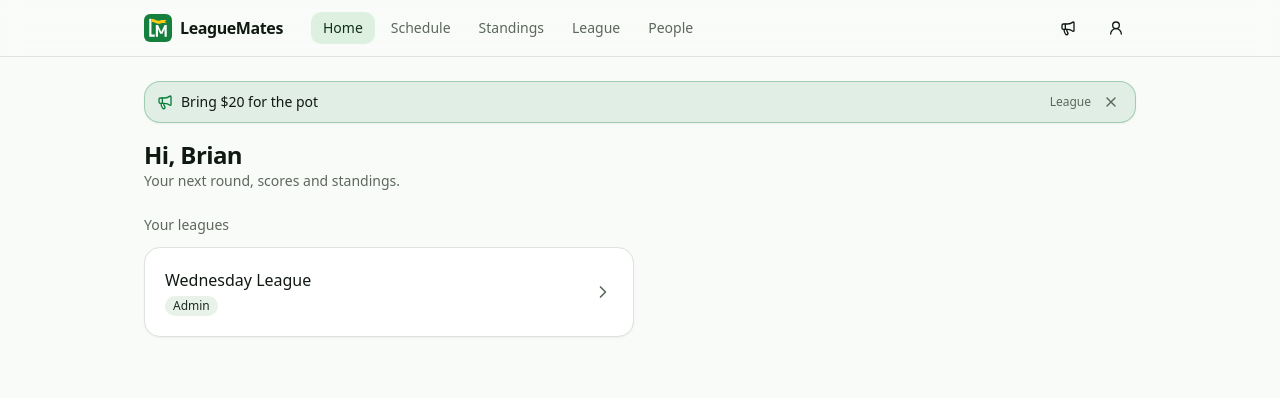
Test: notice banners › tap for the full text (marks it read); ✕ dismisses it
Click the button "Bring $20 for the pot League": point(250, 102) [157,92,1091,112]
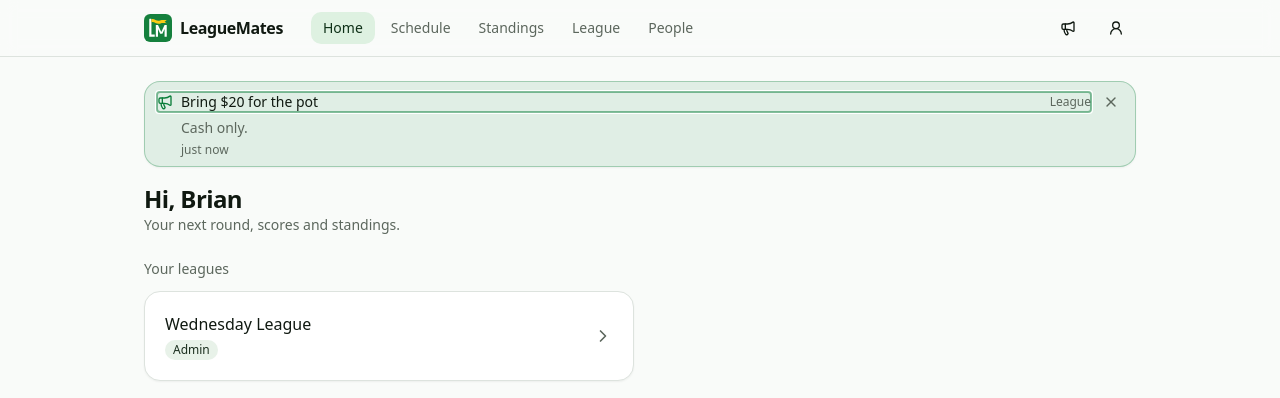
Now the text "Cash only." is shown, box [181,118,248,137]
Click the button named "Dismiss Bring $20 for the pot": point(1111, 102) [1099,90,1123,114]
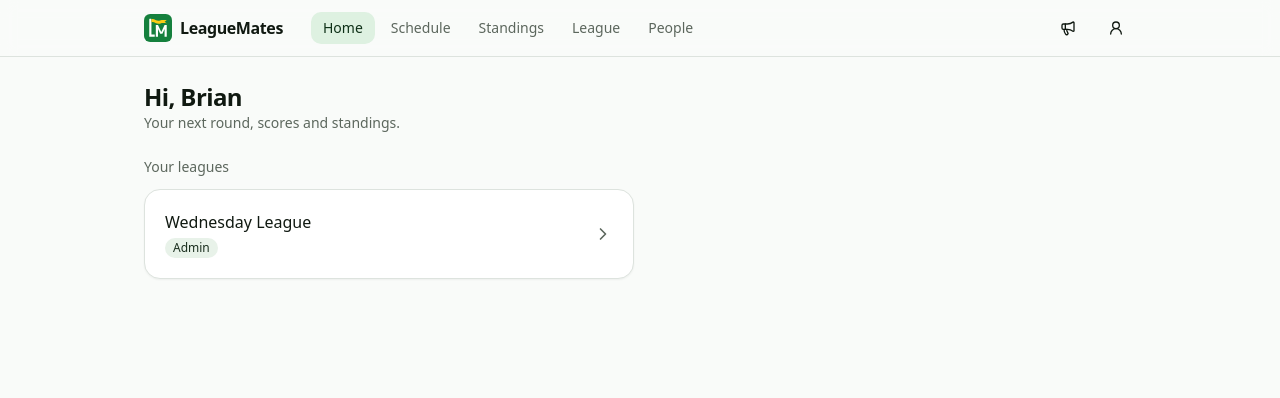
Now the text "Bring $20 for the pot League Cash only. just now" is gone
